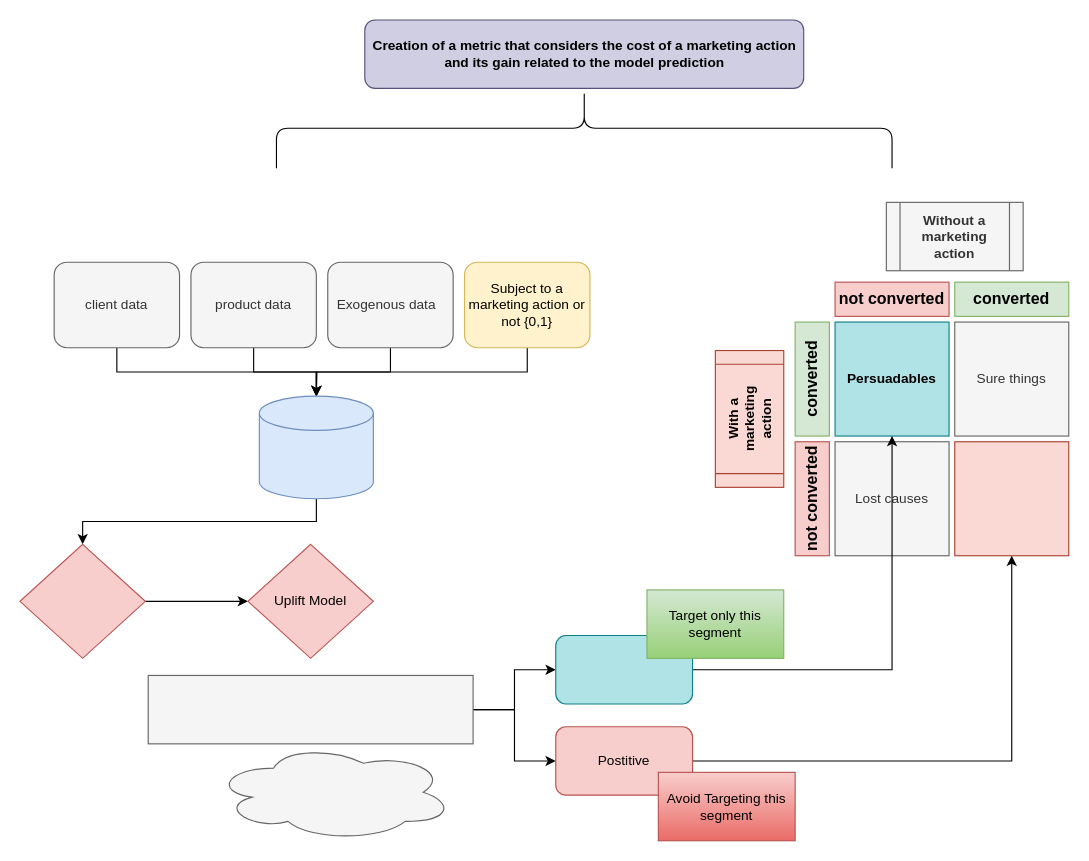
Image size: 1089x861. Some labels were removed from this diagram. Each missing label, with the centre of its shape:
Classification model: (x=82, y=600)
data set: (x=315, y=447)
Negative: (x=624, y=669)
P = Churn Probability: (x=333, y=792)
P(X/ Marketing action) - P(X/ no action): (x=310, y=709)
Sleeping dogs: (x=1011, y=498)
